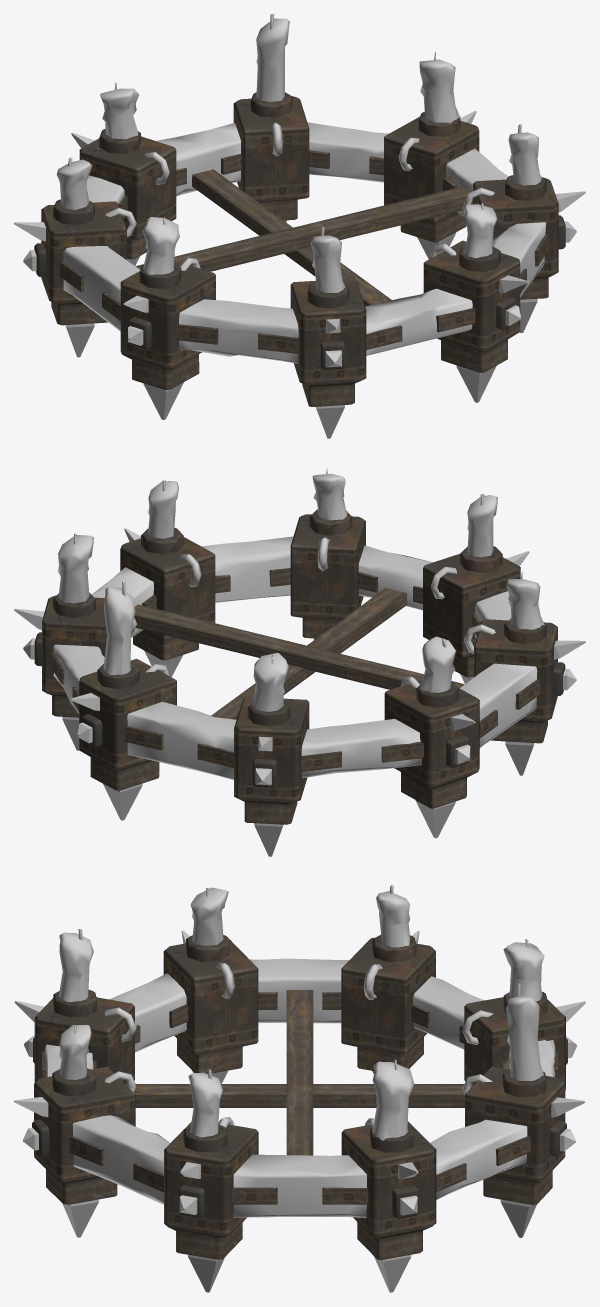
3 renders of one model, top to bottom at view 1: azimuth 30°, elevation 25°; view 2: azimuth 150°, elevation 25°; view 3: azimuth 270°, elevation 25°, orthographic. The views are drawn at different scales.
Visible parts, largest first — view 1: SM_DR_Chandelier_Pillar_01_LOD0; view 2: SM_DR_Chandelier_Pillar_01_LOD0; view 3: SM_DR_Chandelier_Pillar_01_LOD0.
Part boxes in pixels (<box>): SM_DR_Chandelier_Pillar_01_LOD0: <box>14,14,585,438</box>; SM_DR_Chandelier_Pillar_01_LOD0: <box>14,468,585,856</box>; SM_DR_Chandelier_Pillar_01_LOD0: <box>14,885,585,1292</box>.
Size of the model in its own units: 0.9969 by 0.4882 by 0.9969.
